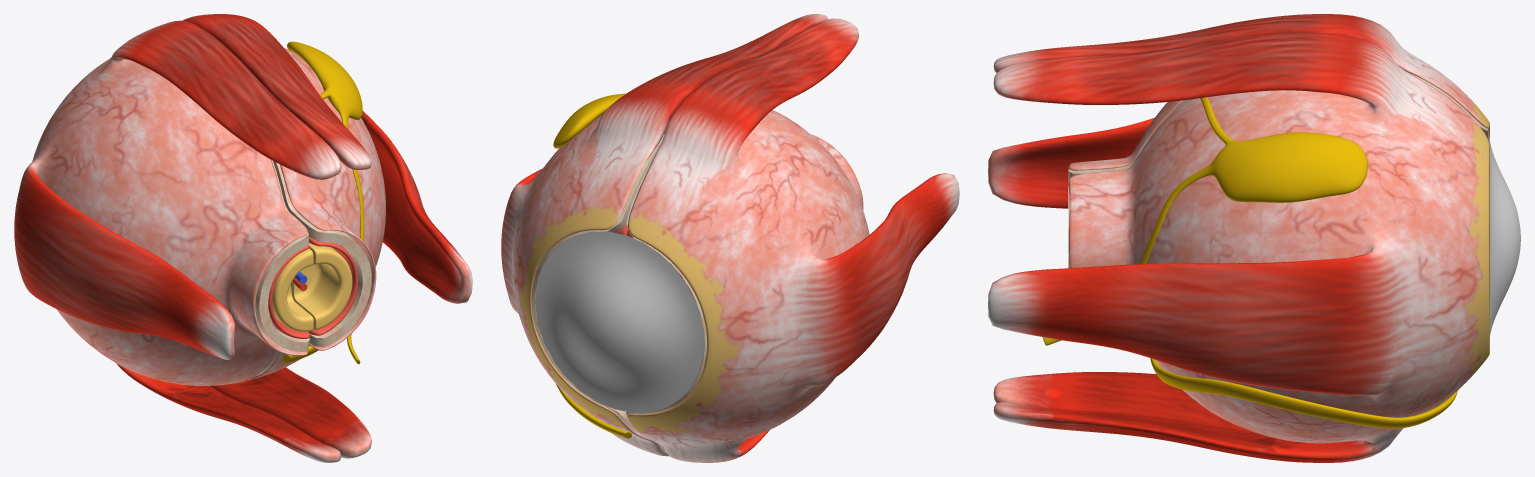
The model's file is OJO_Conjuntivitis.fbx.
3 views of the same model, side by side, from view 1: azimuth 30°, elevation 25°; view 2: azimuth 150°, elevation 25°; view 3: azimuth 270°, elevation 25° (orthographic). The views are drawn at different scales.
Visible parts, largest first — view 1: capa1_izquierda, capa1_derecha, capa4_derecha, lagrimal, capa2_derecha, capa2_izquierda, capa4_izquierda, capa3_derecha, capa3_izquierda; view 2: capa1_izquierda, retina, capa1_derecha, lagrimal, capa2_derecha, capa2_izquierda; view 3: capa1_derecha, capa1_izquierda, lagrimal, retina, capa2_izquierda.
Boxes of the visible parts, x1,y1,x2,y2 form: capa1_izquierda: (14, 20, 340, 462); capa1_derecha: (183, 14, 472, 458); capa4_derecha: (290, 243, 352, 330); lagrimal: (283, 41, 364, 364); capa2_derecha: (260, 161, 371, 372); capa2_izquierda: (255, 160, 309, 351); capa4_izquierda: (272, 248, 313, 331); capa3_derecha: (308, 237, 358, 335); capa3_izquierda: (268, 244, 309, 338); capa1_izquierda: (627, 18, 959, 462); retina: (535, 231, 704, 412); capa1_derecha: (501, 14, 827, 456); lagrimal: (553, 93, 631, 438); capa2_derecha: (531, 134, 664, 432); capa2_izquierda: (626, 166, 706, 417); capa1_derecha: (988, 32, 1490, 462); capa1_izquierda: (988, 14, 1489, 433); lagrimal: (1042, 97, 1457, 428); retina: (1488, 130, 1520, 334); capa2_izquierda: (1068, 72, 1487, 267).
Bounding box in the file's own units: 223 × 224 × 259.
Materials: 11 (6 with a texture image).
